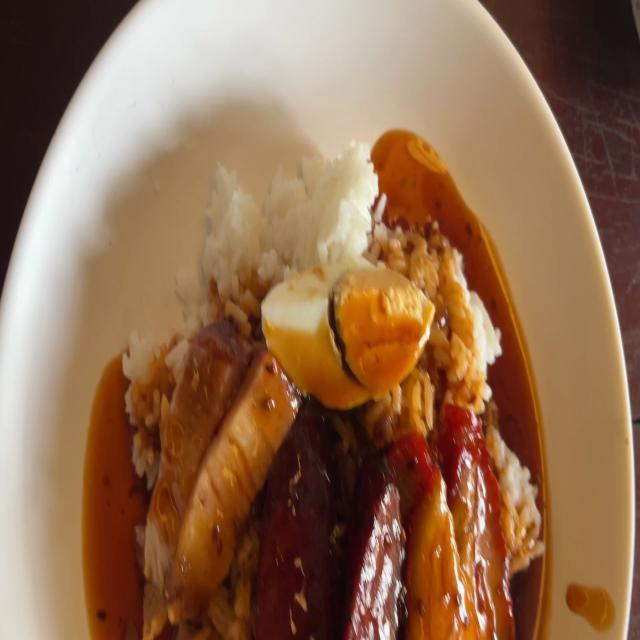01boiled_egg: (260, 254, 431, 404)
01chainese_sausage: (272, 423, 400, 640)
01crispy_pork: (144, 320, 280, 593)
01red_pork: (408, 401, 514, 640)
01red_pork_and_crispy_pork: (123, 140, 539, 640)
01rice: (212, 137, 374, 267)
